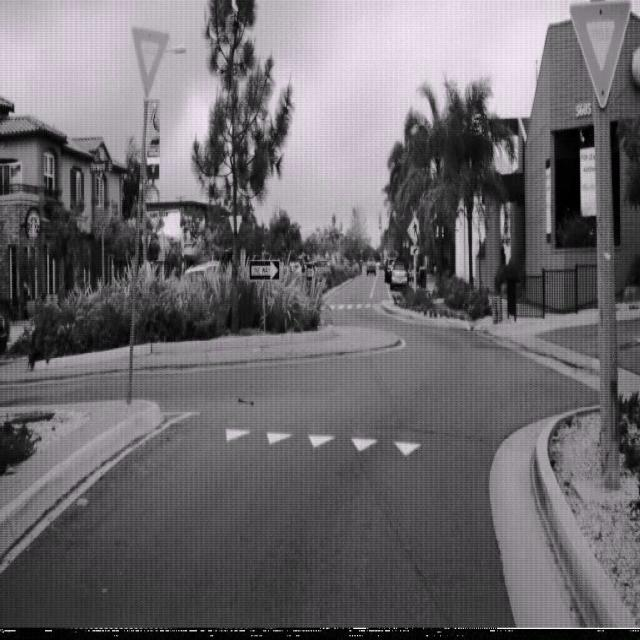pedestrianCrossing: (406, 212, 424, 247)
yield: (132, 25, 170, 98)
